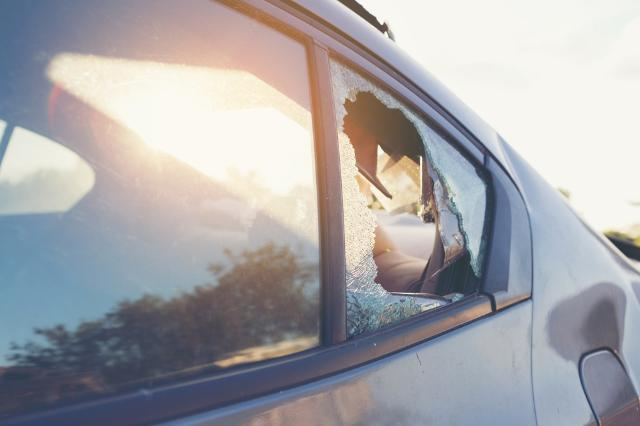glass shatter: (327, 52, 492, 341)
